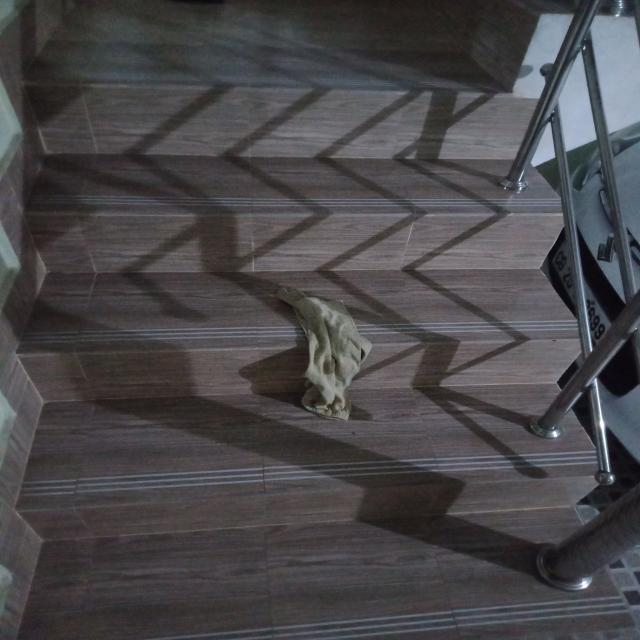Stairs: (25, 16, 626, 616)
